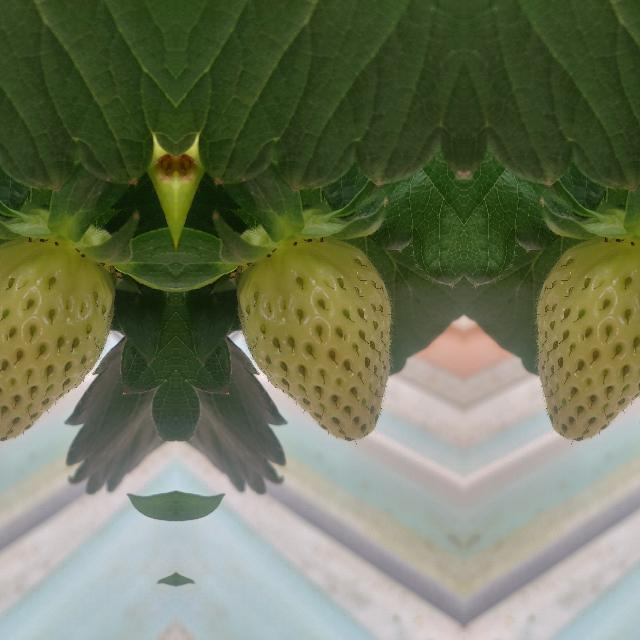Health_25: (236, 236, 390, 440), (0, 236, 114, 440), (536, 236, 640, 440)
